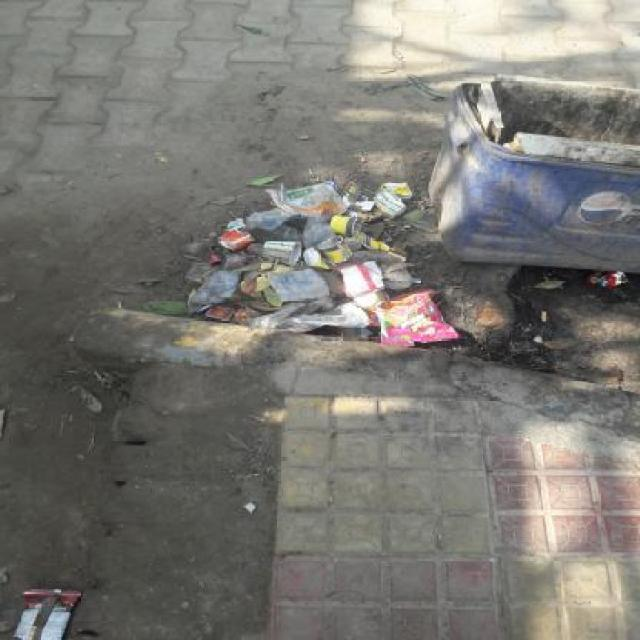garbage: (396, 45, 636, 325), (149, 177, 436, 374), (3, 583, 101, 639)
